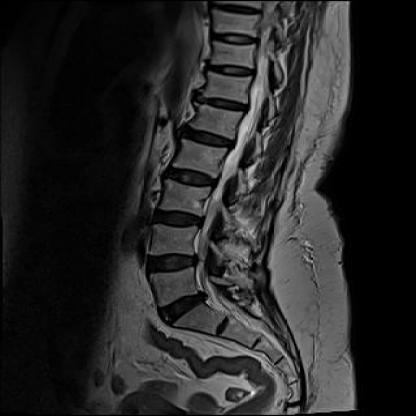Disc Bulgerotation: (154, 287, 216, 321)
Disc Relaxationrotation: (147, 203, 208, 233), (161, 163, 222, 192), (140, 251, 197, 278)
